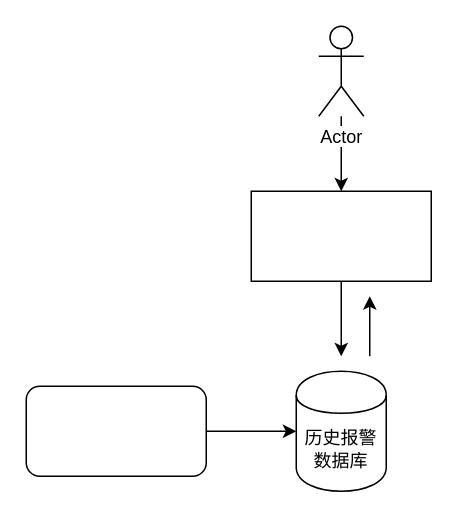
Some shapes in this 458 by 518 pixel diagram are drawn without their labels. The centre of each missing label's shape, as x and y in pixels:
"报警生成服务" belongs at (115,430).
"查询历史报警" belongs at (340,235).
